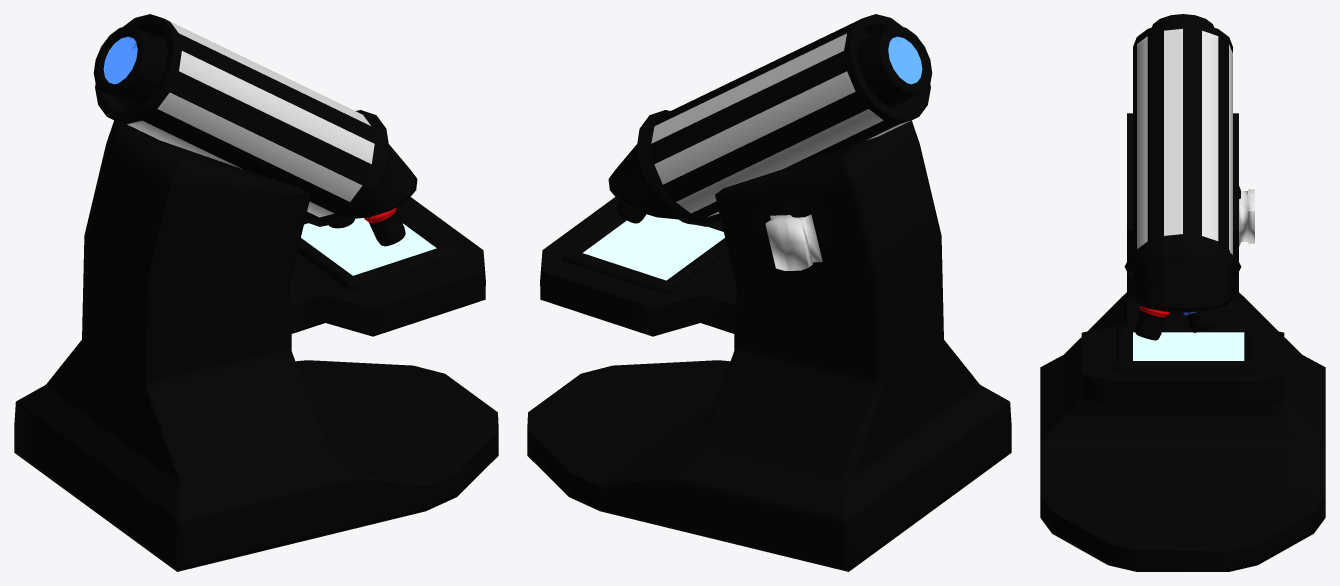
3 views of the same model, side by side, from view 1: azimuth 30°, elevation 25°; view 2: azimuth 150°, elevation 25°; view 3: azimuth 270°, elevation 25° (orthographic). The views are drawn at different scales.
Parts seen in each view (by area): view 1: Cube_0; view 2: Cube_0; view 3: Cube_0.
Part boxes in pixels (x1,y1,x2,y2): Cube_0: [14, 14, 498, 571]; Cube_0: [527, 14, 1011, 571]; Cube_0: [1040, 14, 1325, 571].
Bounding box in the file's own units: 4.47 × 5.43 × 3.36.
